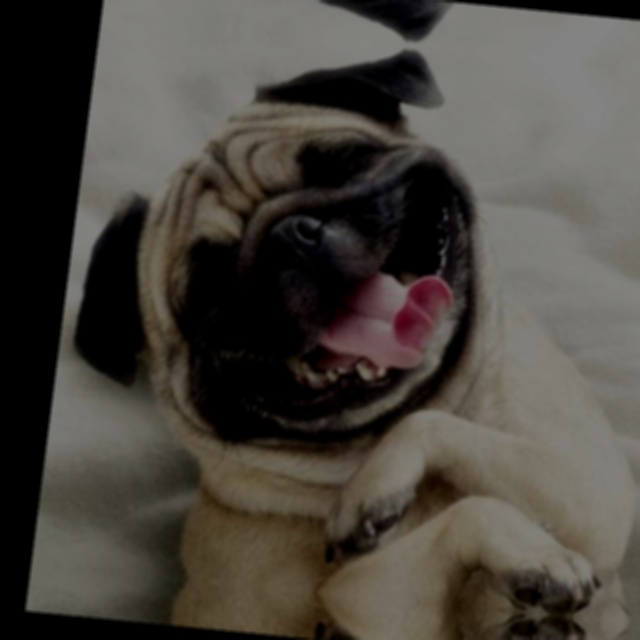dog: (54, 17, 576, 472), (107, 0, 583, 58)
